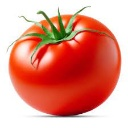tomato: (9, 14, 121, 116)
